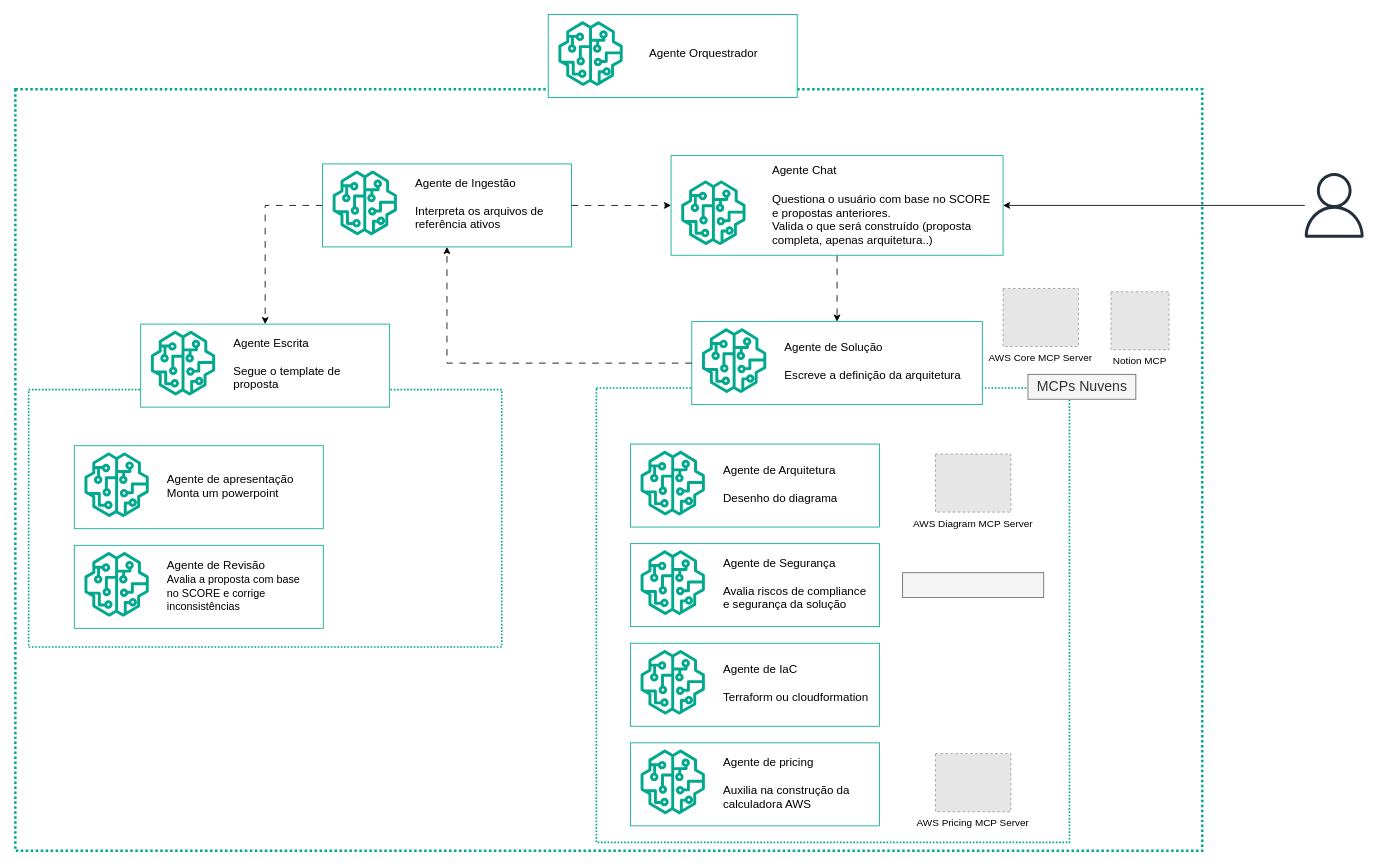
The diagram is 1381 pixels wide and 867 high, and some of its shapes have lost their labels. Grey dashed boxes stand in for pictures. The shapes that lost their labels are listed below. From the top down, each one's box as (x1, y1, x2, y2) in pixels, then its label:
(1301, 173, 1366, 237): Arquiteto
(902, 572, 1044, 598): MCP de segurança
